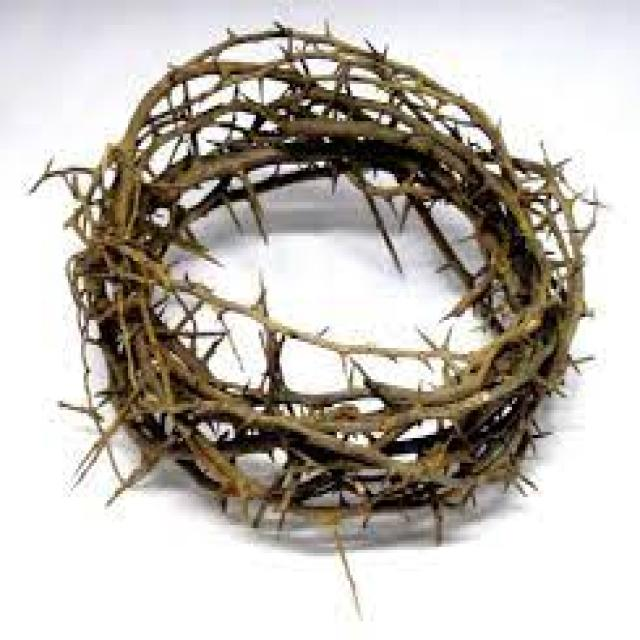crown: (37, 0, 639, 555)
